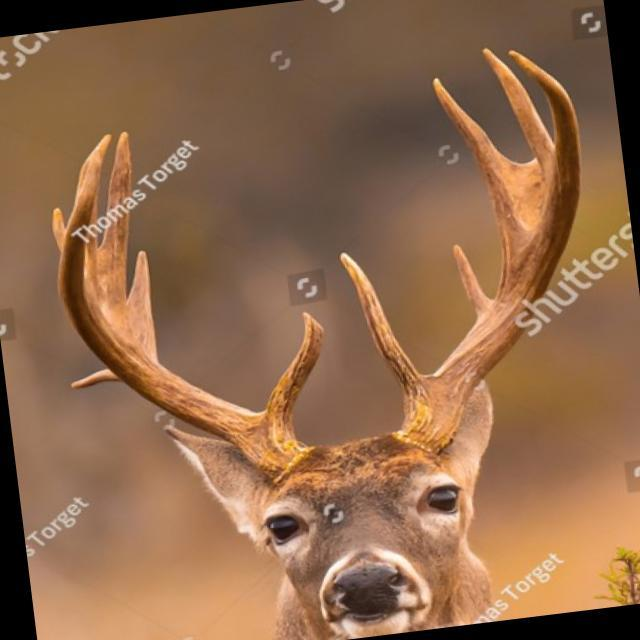E1: (69, 369, 118, 389)
L-F: (393, 49, 582, 456)
L-G1: (337, 251, 434, 415)
L-G2: (452, 243, 495, 319)
R-F: (58, 147, 315, 484)
R-G1: (260, 309, 326, 439)
